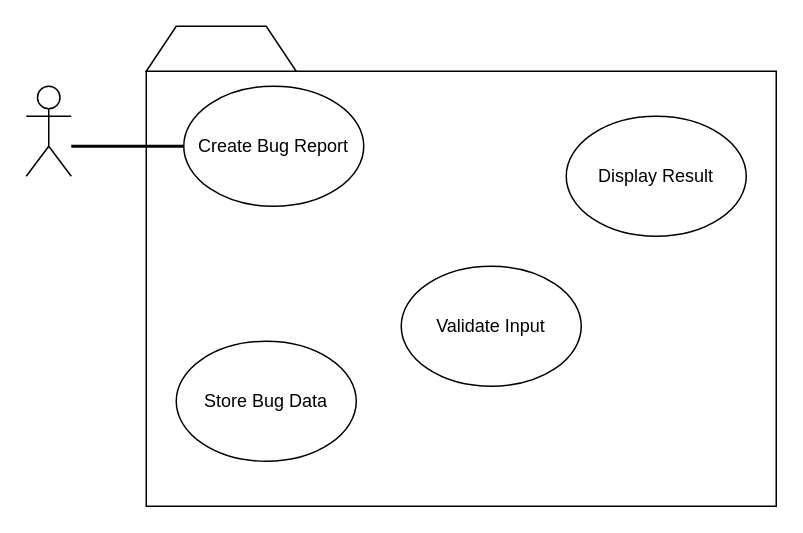
This 803x533 diagram has some shape labels left out. The shapes that lost their labels are listed below. From the top down, each one's box as (x1, y1, x2, y2) in pixels, then its label:
(145, 25, 296, 71): Bug Tracker
(25, 85, 71, 176): User
